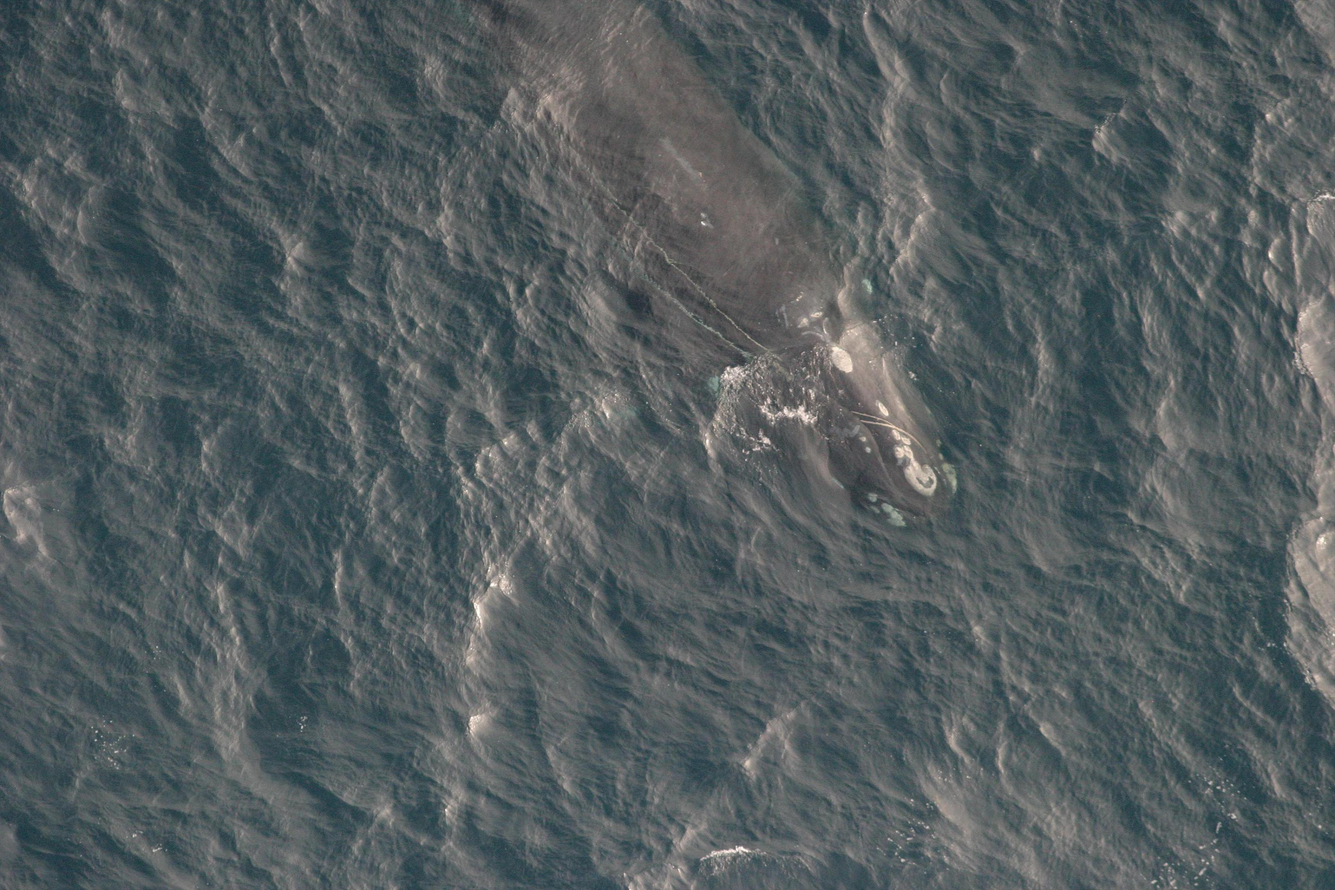whale: (452, 0, 964, 534)
